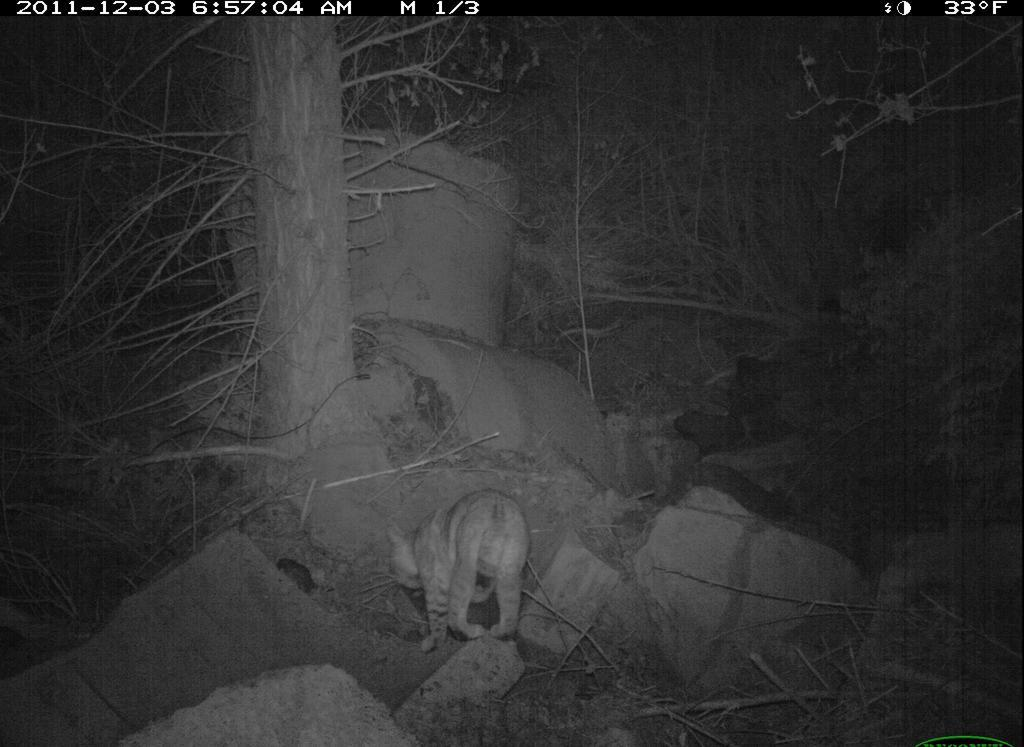bobcat: (368, 484, 538, 651)
